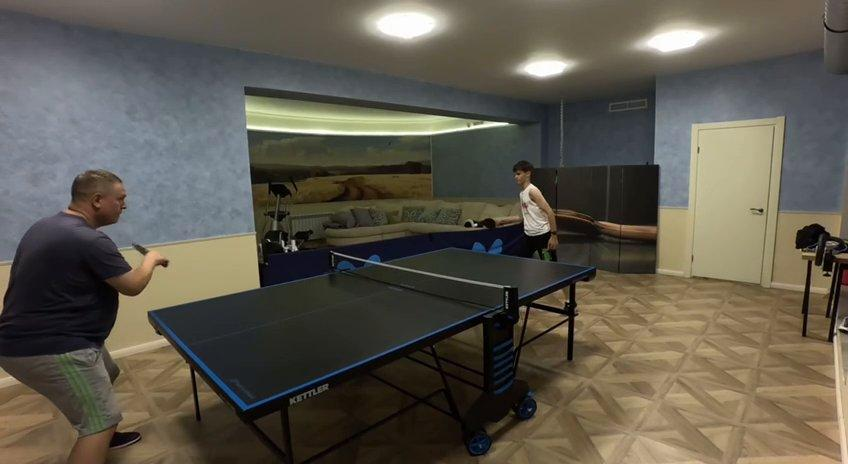Ball: (470, 221, 479, 229)
Net: (327, 251, 515, 308)
Player1: (513, 160, 555, 258)
Player2: (0, 169, 167, 463)
Table: (149, 247, 594, 409)
